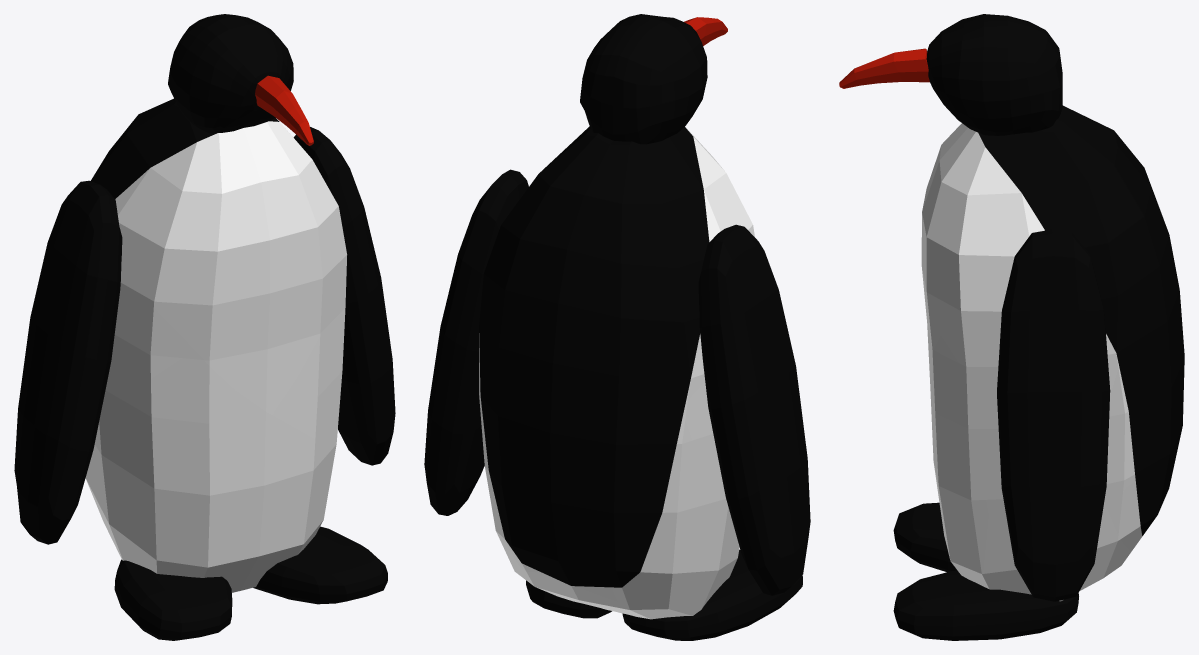
The model's file is penguin.glb.
3 views of the same model, side by side, from view 1: azimuth 30°, elevation 25°; view 2: azimuth 150°, elevation 25°; view 3: azimuth 270°, elevation 25° (orthographic).
Parts seen in each view (by area): view 1: Penguin; view 2: Penguin; view 3: Penguin.
Part boxes in pixels (x1=…): Penguin: x1=14, y1=14, x2=395, y2=640; Penguin: x1=424, y1=14, x2=810, y2=640; Penguin: x1=839, y1=14, x2=1184, y2=640.
Size of the model in its own units: 2.99 by 4.66 by 2.54.
Materials: 1 (1 with a texture image).
